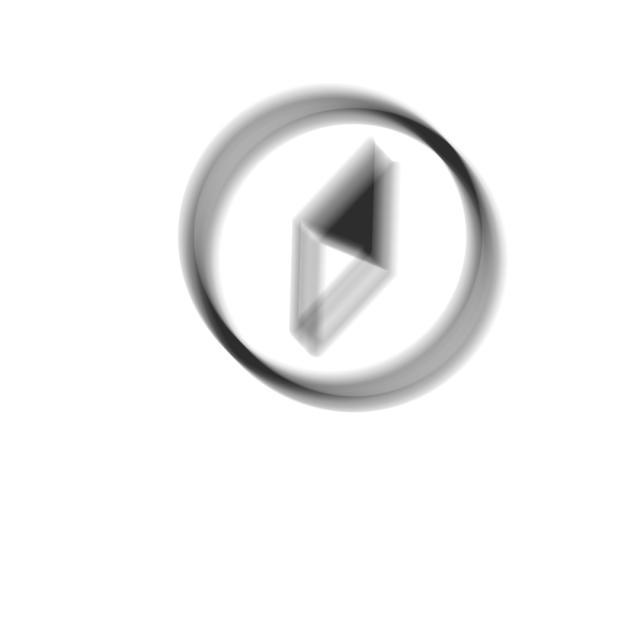compass: (169, 77, 516, 424)
